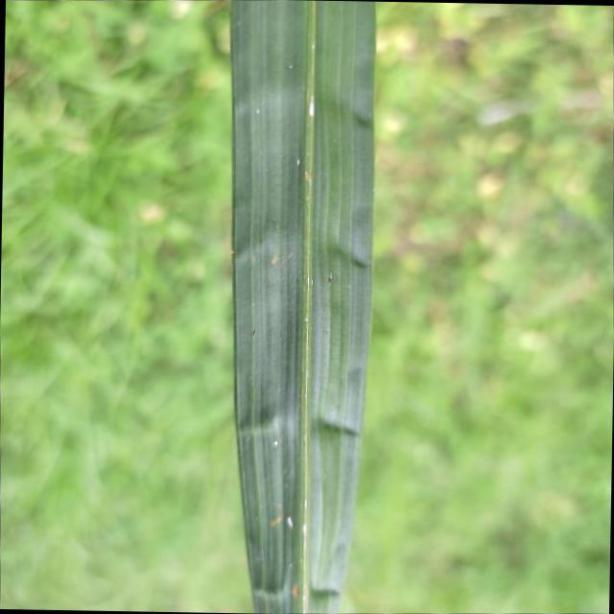Boron: (230, 0, 376, 614)
